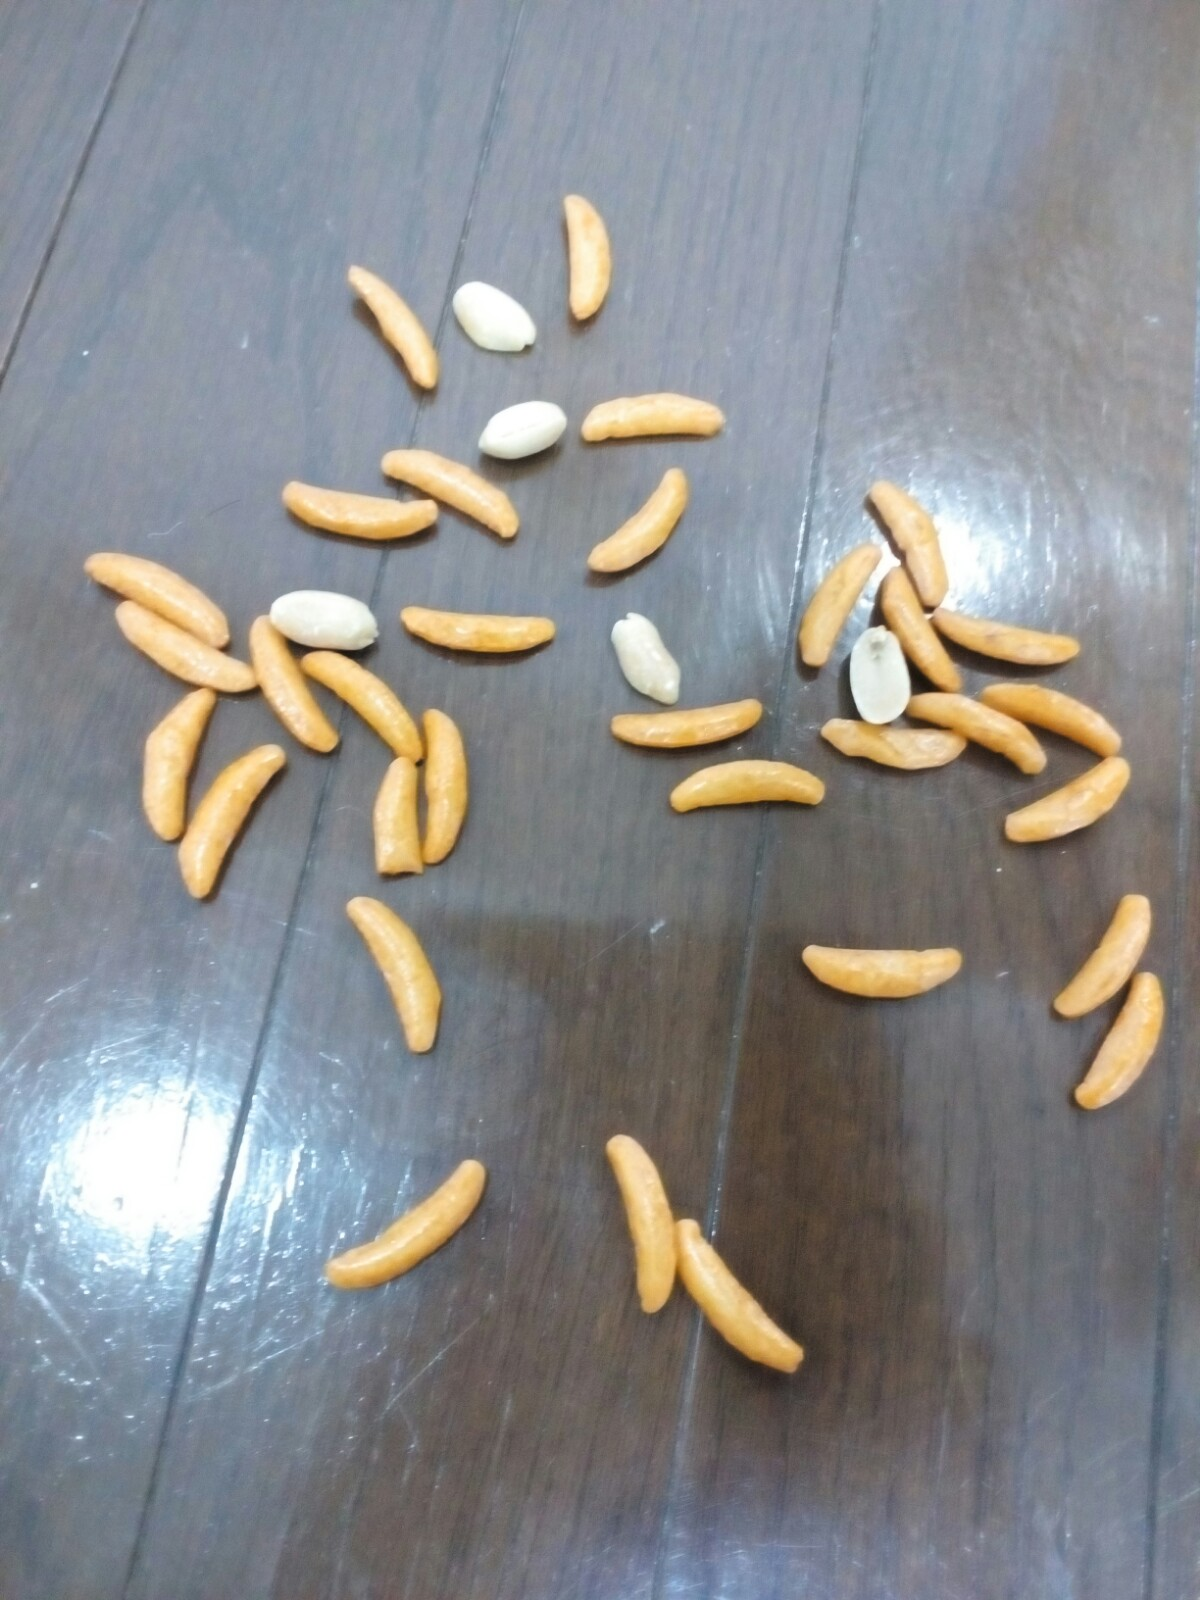peanut: (601, 603, 692, 712), (845, 614, 918, 736), (445, 270, 545, 357), (265, 587, 388, 653), (465, 391, 574, 459)
